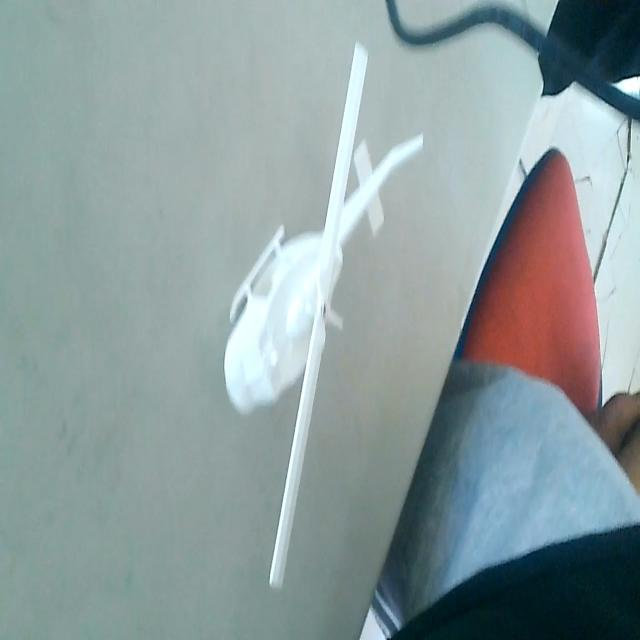Helicopter: (225, 40, 425, 580)
